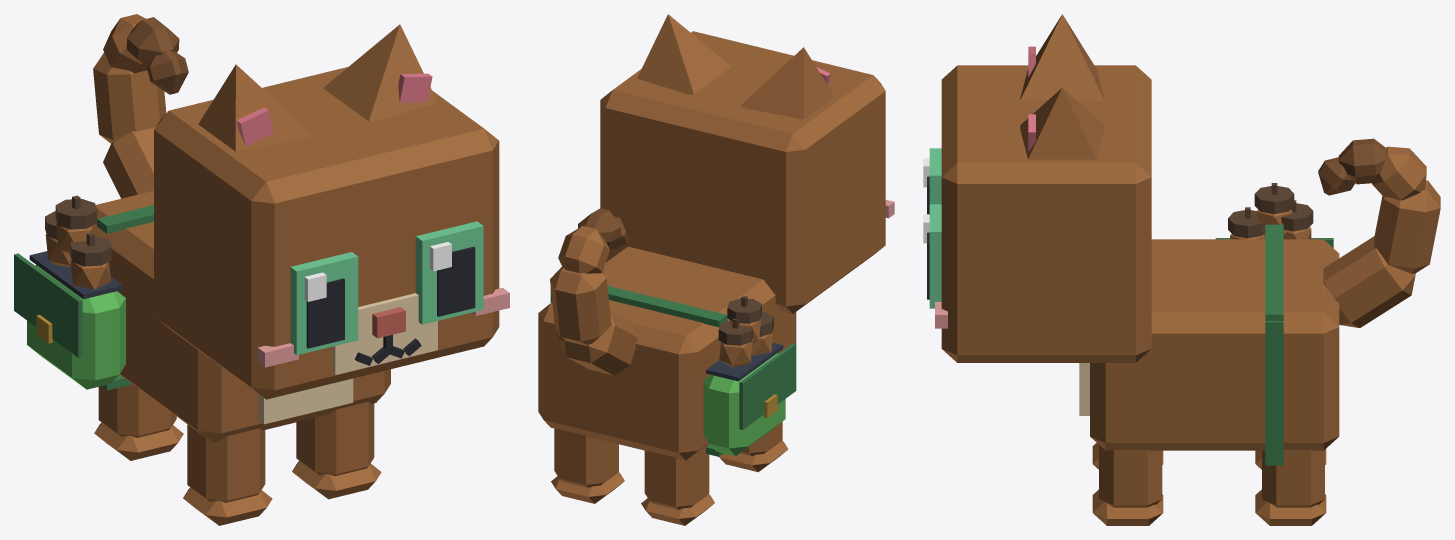
File: CatCafe_Cat_Acorn.fbx
3 views of the same model, side by side, from view 1: azimuth 30°, elevation 25°; view 2: azimuth 150°, elevation 25°; view 3: azimuth 270°, elevation 25° (orthographic). The views are drawn at different scales.
Parts seen in each view (by area): view 1: CatCafe_Cat_Acorn_Head, CatCafe_Cat_Acorn_Body, CatCafe_Cat_Acorn_Tail, CatCafe_Cat_Acorn_LegF2, CatCafe_Cat_Acorn_LegF1, CatCafe_Cat_Acorn_Eye2, CatCafe_Cat_Acorn_Eye1, CatCafe_Cat_Acorn_EarL, CatCafe_Cat_Acorn_EarR, CatCafe_Cat_Acorn_LegB2; view 2: CatCafe_Cat_Acorn_Head, CatCafe_Cat_Acorn_Body, CatCafe_Cat_Acorn_Tail, CatCafe_Cat_Acorn_LegB2, CatCafe_Cat_Acorn_EarL, CatCafe_Cat_Acorn_LegB1, CatCafe_Cat_Acorn_EarR, CatCafe_Cat_Acorn_LegF2; view 3: CatCafe_Cat_Acorn_Head, CatCafe_Cat_Acorn_Body, CatCafe_Cat_Acorn_Tail, CatCafe_Cat_Acorn_LegF1, CatCafe_Cat_Acorn_LegB1, CatCafe_Cat_Acorn_EarR, CatCafe_Cat_Acorn_EarL, CatCafe_Cat_Acorn_Eye1, CatCafe_Cat_Acorn_Eye2.
Part boxes in pixels (x1,y1,x2,y2): CatCafe_Cat_Acorn_Head: (154,67,509,399); CatCafe_Cat_Acorn_Body: (14,191,390,442); CatCafe_Cat_Acorn_Tail: (93,14,188,198); CatCafe_Cat_Acorn_LegF2: (183,424,272,525); CatCafe_Cat_Acorn_LegF1: (292,401,381,499); CatCafe_Cat_Acorn_Eye2: (290,252,358,355); CatCafe_Cat_Acorn_Eye1: (415,221,483,324); CatCafe_Cat_Acorn_EarL: (323,24,437,121); CatCafe_Cat_Acorn_EarR: (198,64,312,151); CatCafe_Cat_Acorn_LegB2: (94,384,183,460); CatCafe_Cat_Acorn_Head: (600,31,894,313); CatCafe_Cat_Acorn_Body: (538,246,796,460); CatCafe_Cat_Acorn_Tail: (550,208,637,375); CatCafe_Cat_Acorn_LegB2: (641,444,714,525); CatCafe_Cat_Acorn_EarL: (637,14,731,94); CatCafe_Cat_Acorn_LegB1: (551,428,624,503); CatCafe_Cat_Acorn_EarR: (740,47,834,119); CatCafe_Cat_Acorn_LegF2: (719,421,788,472); CatCafe_Cat_Acorn_Head: (935,65,1151,362); CatCafe_Cat_Acorn_Body: (1079,183,1339,465); CatCafe_Cat_Acorn_Tail: (1318,138,1440,327); CatCafe_Cat_Acorn_LegF1: (1092,445,1163,525); CatCafe_Cat_Acorn_LegB1: (1255,449,1326,525); CatCafe_Cat_Acorn_EarR: (1020,14,1104,100); CatCafe_Cat_Acorn_EarL: (1020,87,1104,159); CatCafe_Cat_Acorn_Eye1: (923,204,941,308); CatCafe_Cat_Acorn_Eye2: (923,148,941,214).
Bounding box in the file's own units: 1.15 × 1.86 × 1.97.
Materials: 1 (1 with a texture image).
